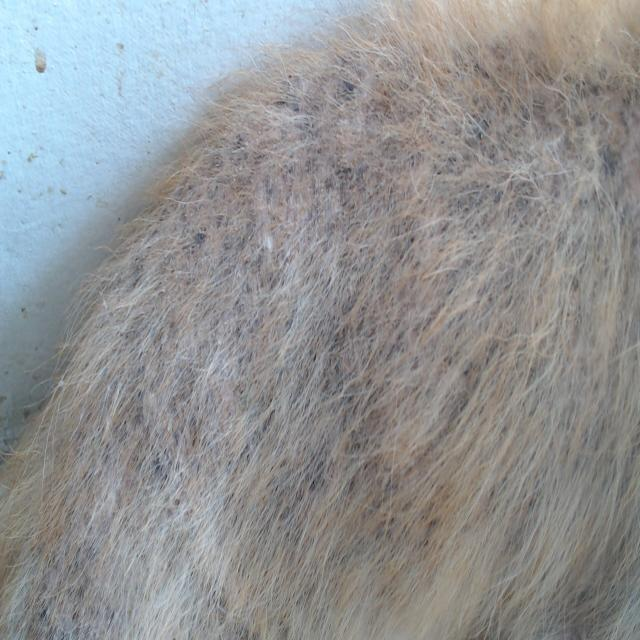demodicosis: (103, 124, 381, 486)
